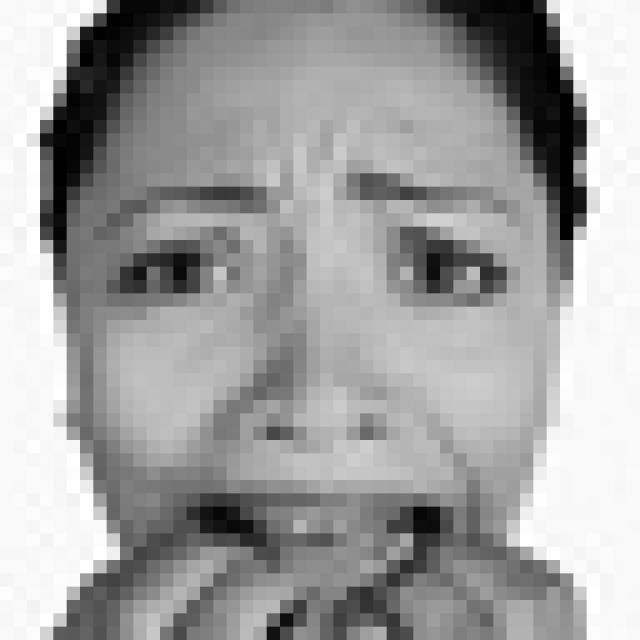fear: (96, 141, 539, 608)
